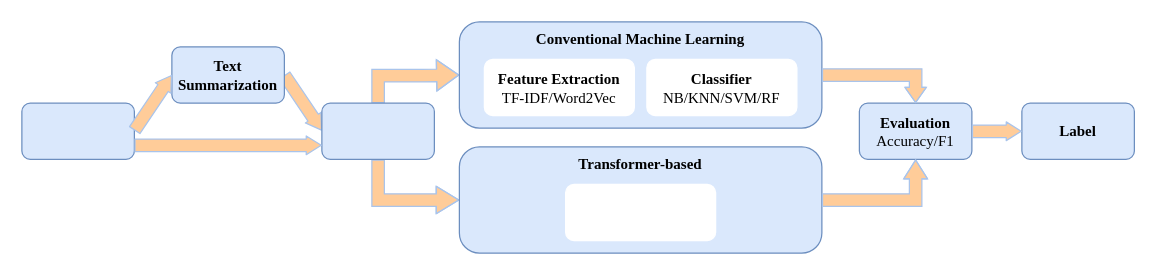
Image size: 1156x275. Some labels were removed from this diagram. The shapes that lost their labels are listed below. From the top down, each one's centre as x and y in pixels, then its label:
At pixel 77 130: "Movie Plots".
At pixel 377 130: "Text Pre-processing".
At pixel 640 212: "Models BERT/GPT".
